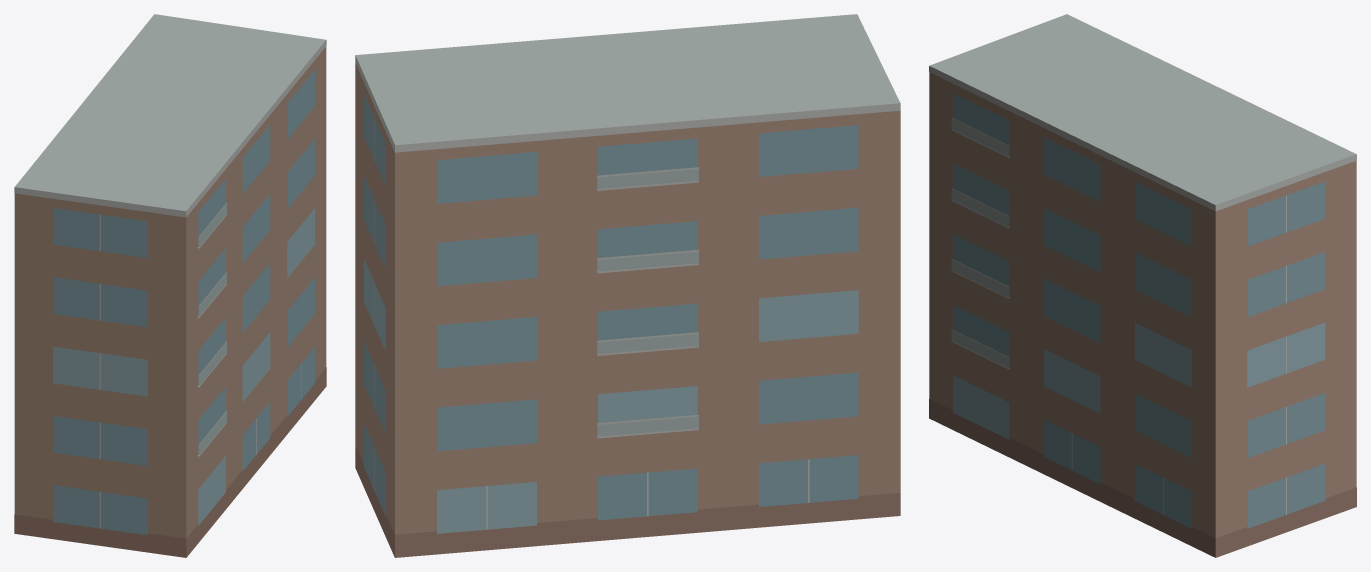
File: survey-upis-32939592.glb
3 views of the same model, side by side, from view 1: azimuth 30°, elevation 25°; view 2: azimuth 150°, elevation 25°; view 3: azimuth 270°, elevation 25° (orthographic). The views are drawn at different scales.
Visible parts, largest first — view 1: survey-upis-32939592.tmp; view 2: survey-upis-32939592.tmp; view 3: survey-upis-32939592.tmp.
Part boxes in pixels (bbox=[...]): survey-upis-32939592.tmp: bbox=[14, 14, 326, 557]; survey-upis-32939592.tmp: bbox=[355, 14, 900, 557]; survey-upis-32939592.tmp: bbox=[929, 14, 1356, 557].
Bounding box in the file's own units: 15.88 × 13.65 × 15.01.
